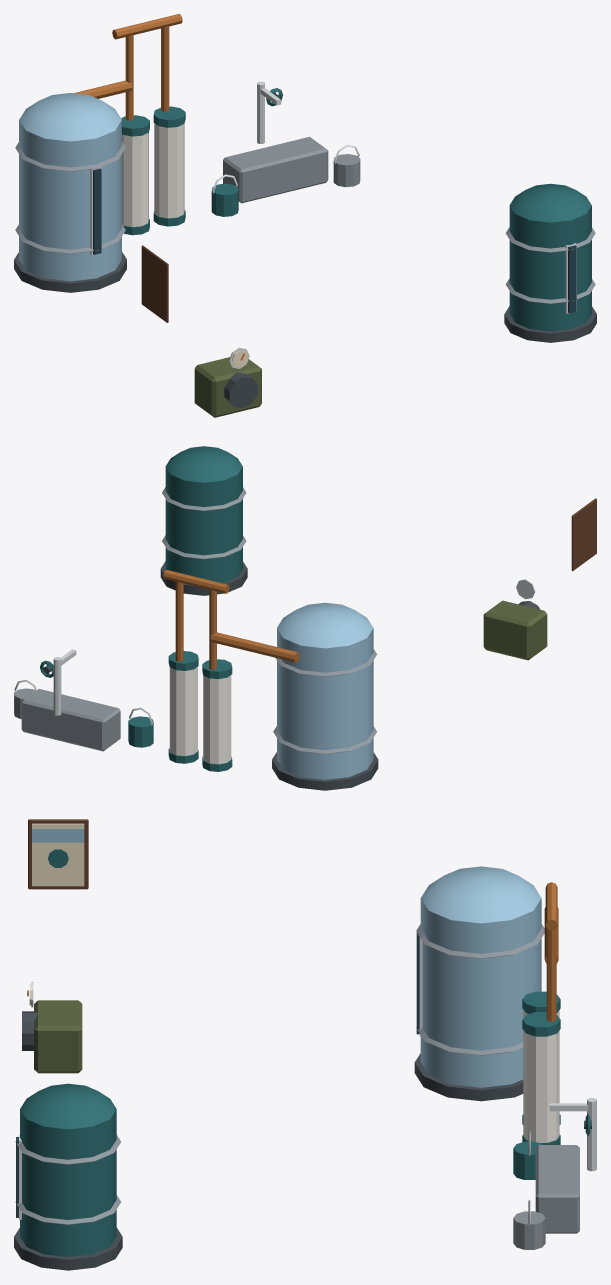
File: Room_WaterPurifier_L2.fbx
3 views of the same model, one above another, from view 1: azimuth 30°, elevation 25°; view 2: azimuth 150°, elevation 25°; view 3: azimuth 270°, elevation 25° (orthographic). The views are drawn at different scales.
Parts seen in each view (by area): view 1: Decor, Tank1, Tank2, Trough1, Filter2, Filter1, Pump1, DecorGlass; view 2: Decor, Tank1, Tank2, Trough1, Pump1, Filter1, Filter2; view 3: Decor, Tank1, Tank2, Filter2, Trough1, Pump1, DecorGlass.
Part boxes in pixels (left/top/right/bottom): Decor: left=14, top=14, right=596, bottom=407; Tank1: left=19, top=120, right=121, bottom=281; Tank2: left=509, top=205, right=591, bottom=331; Trough1: left=223, top=136, right=328, bottom=203; Filter2: left=154, top=123, right=184, bottom=218; Filter1: left=122, top=132, right=148, bottom=226; Pump1: left=194, top=357, right=261, bottom=417; DecorGlass: left=93, top=168, right=576, bottom=313; Decor: left=14, top=446, right=596, bottom=790; Tank1: left=277, top=628, right=373, bottom=779; Tank2: left=165, top=467, right=242, bottom=582; Trough1: left=21, top=689, right=120, bottom=751; Pump1: left=483, top=600, right=547, bottom=660; Filter1: left=203, top=675, right=231, bottom=764; Filter2: left=169, top=667, right=197, bottom=755; Decor: left=14, top=819, right=596, bottom=1270; Tank1: left=420, top=898, right=541, bottom=1087; Tank2: left=20, top=1109, right=116, bottom=1256; Filter2: left=523, top=1030, right=559, bottom=1142; Trough1: left=535, top=1145, right=579, bottom=1233; Pump1: left=34, top=1000, right=82, bottom=1073; DecorGlass: left=16, top=932, right=419, bottom=1217.
Size of the model in its own units: 29.7 by 12.8 by 28.95.
